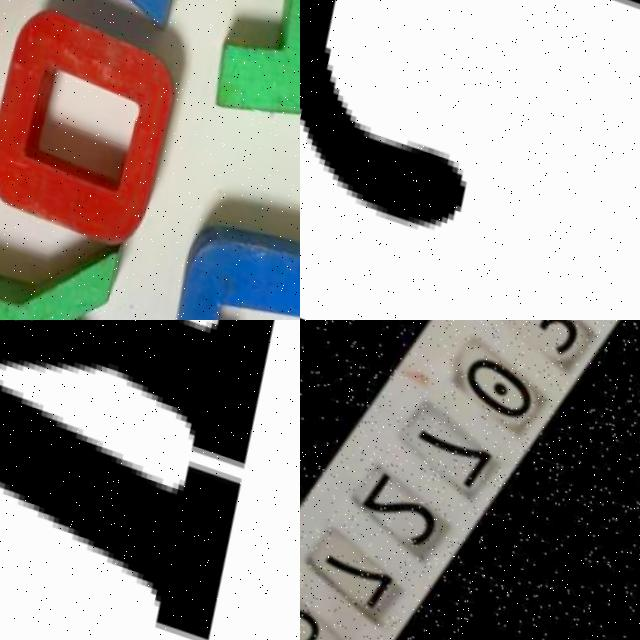0: (429, 324, 562, 443)
2: (329, 449, 464, 570)
3: (477, 320, 607, 376)
6: (300, 582, 363, 640)
7: (382, 387, 513, 506), (300, 518, 411, 628)
F: (206, 0, 300, 148)
J: (300, 0, 640, 320), (132, 191, 300, 320)
O: (0, 0, 189, 254)
W: (0, 320, 300, 640)
